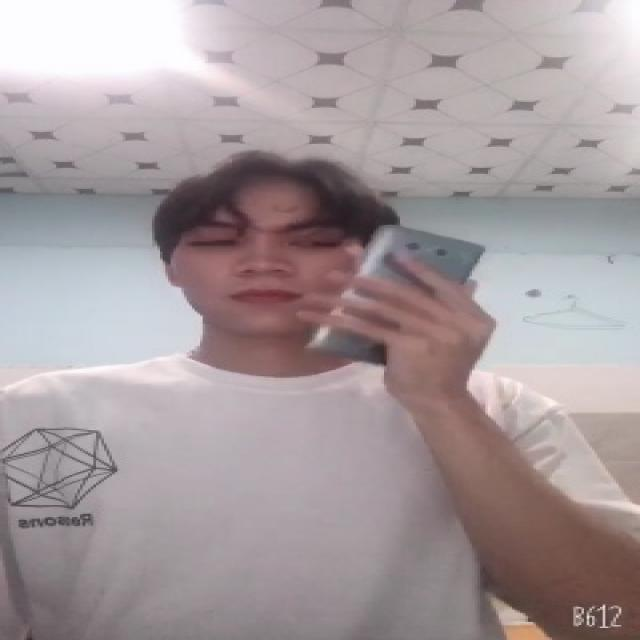Phone: (305, 224, 491, 369)
